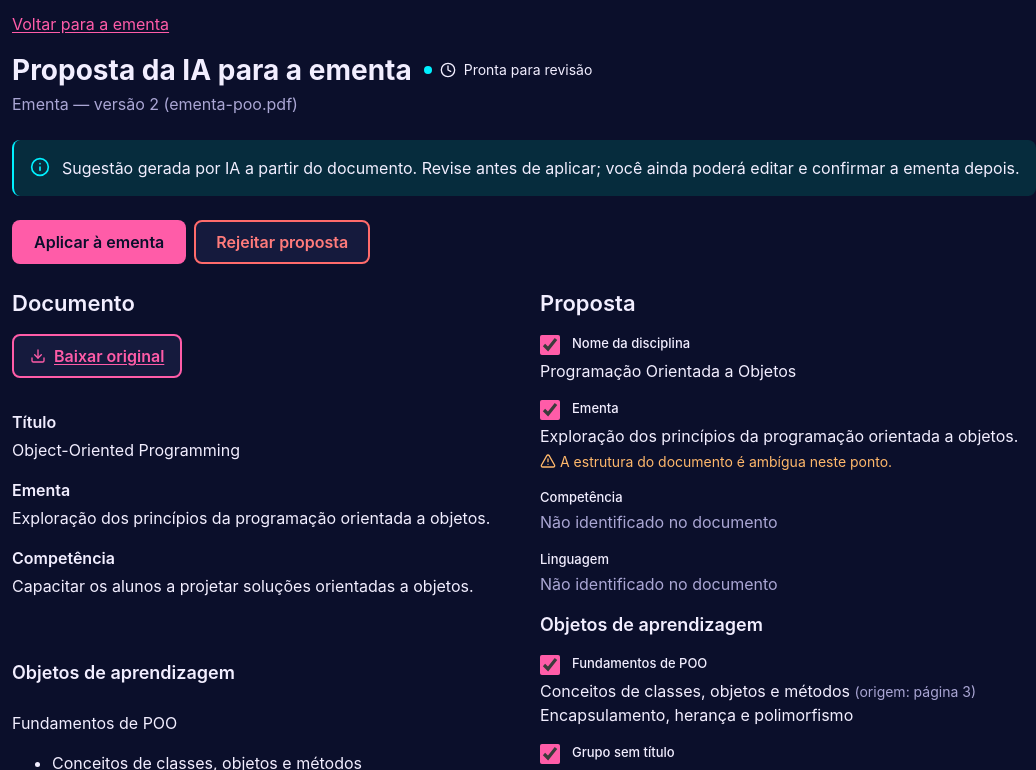
Test case: 007/US3 CurriculumProposalReview — revisar a proposta e aplicar à ementa › 007/US3-2 desmarcar campos e grupos; "Aplicar à ementa" desabilitado sem nada marcado
The width and height of the screenshot is (1036, 770).
Click the checkbox labelled "Nome da disciplina" at (550, 345), box [540, 335, 560, 355]
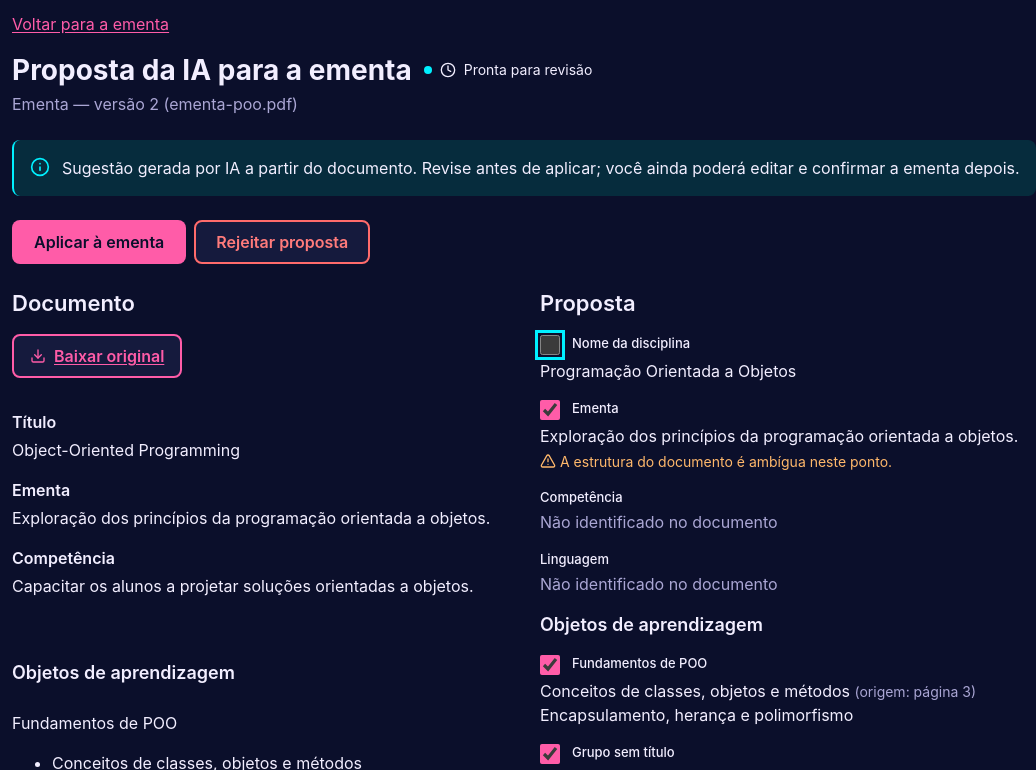
Click the checkbox labelled "Ementa" at (550, 410), box [540, 400, 560, 420]
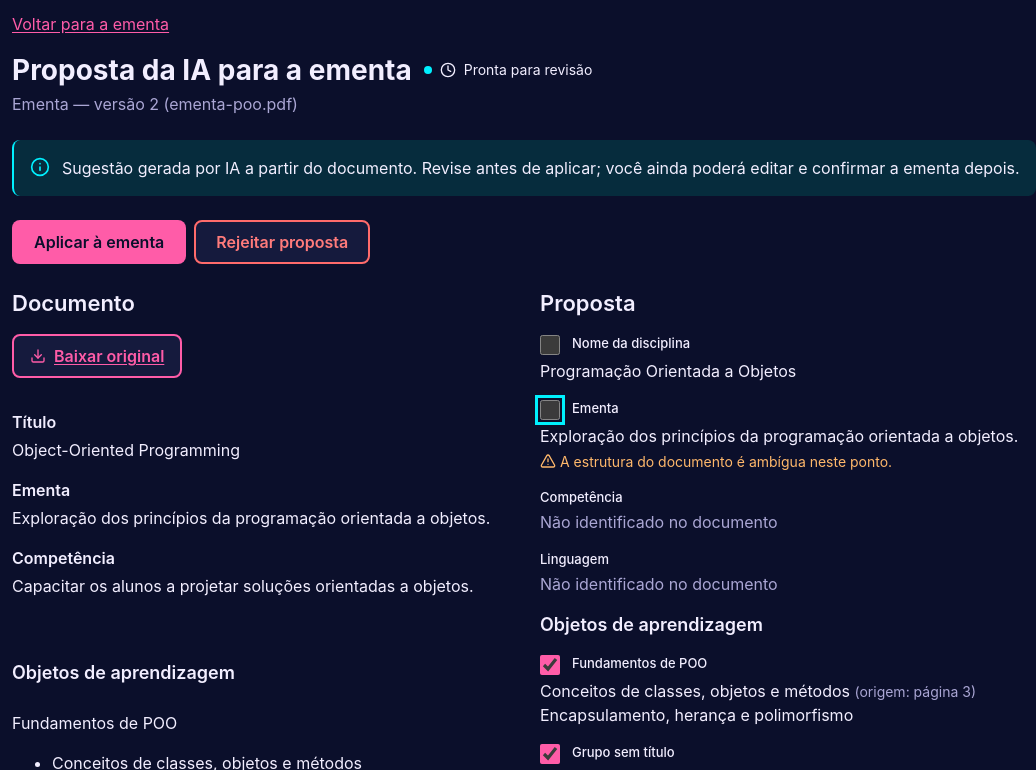
Click the checkbox labelled "Fundamentos de POO" at (550, 665), box [540, 655, 560, 675]
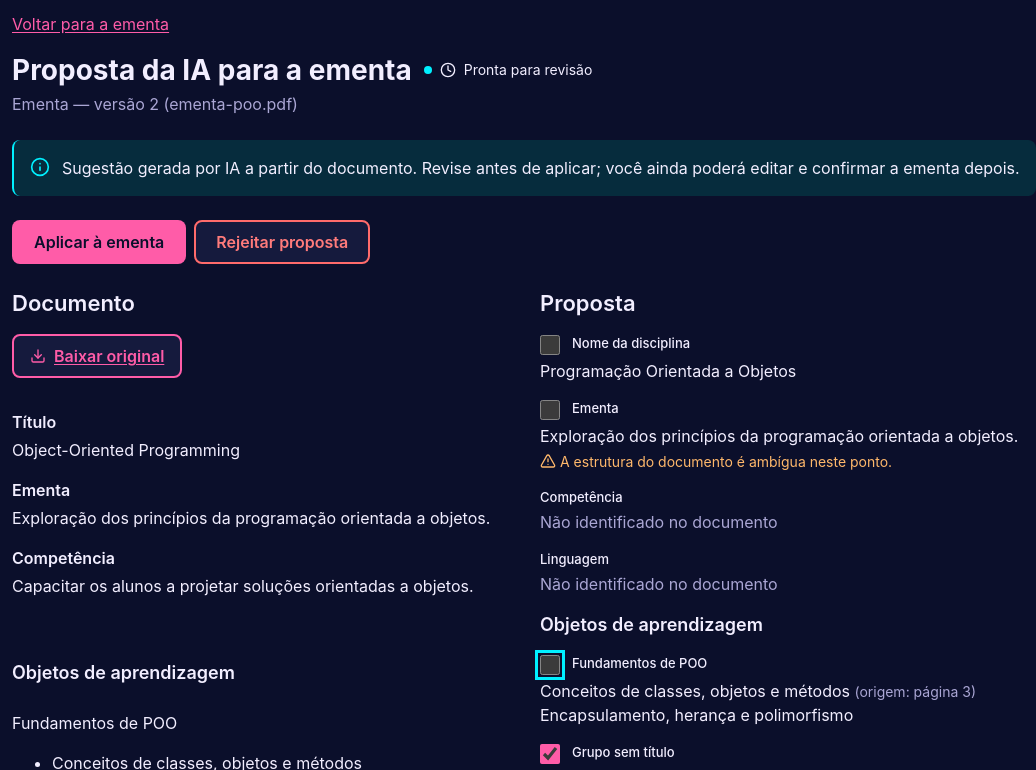
Expected: the button "Aplicar à ementa" is enabled, [12, 220, 186, 264]
Click the checkbox labelled "Grupo sem título" at (550, 754), box [540, 744, 560, 764]
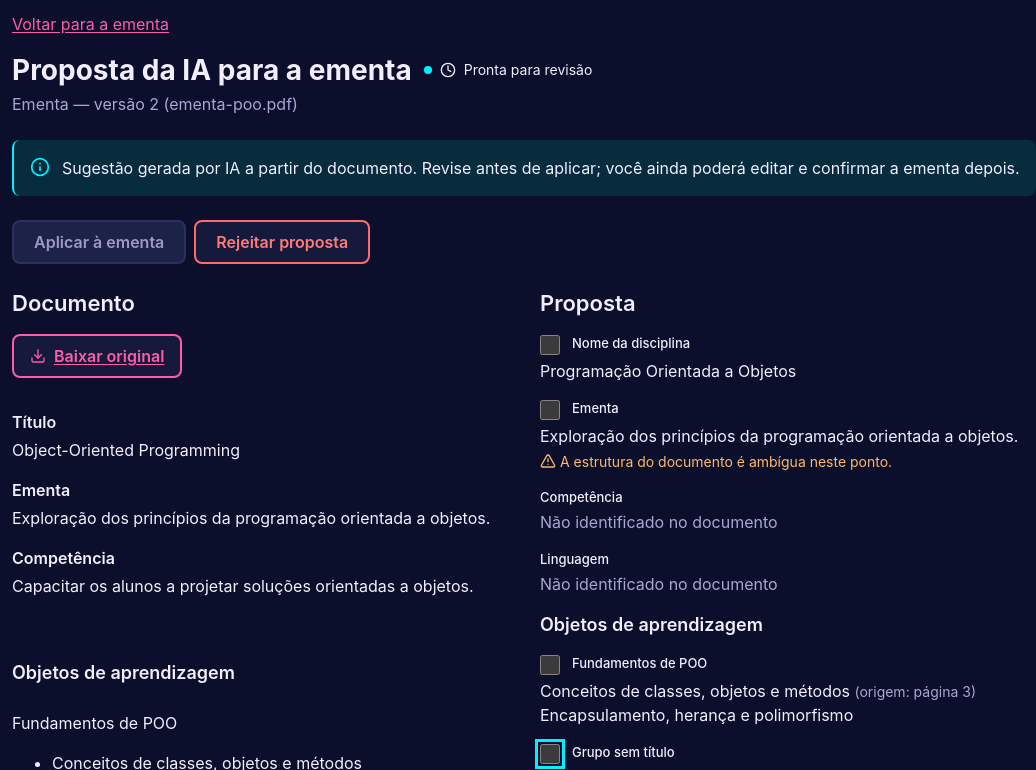
Expected: the button "Aplicar à ementa" is disabled, [12, 220, 186, 264]
Click the checkbox labelled "Ementa" at (550, 410), box [540, 400, 560, 420]
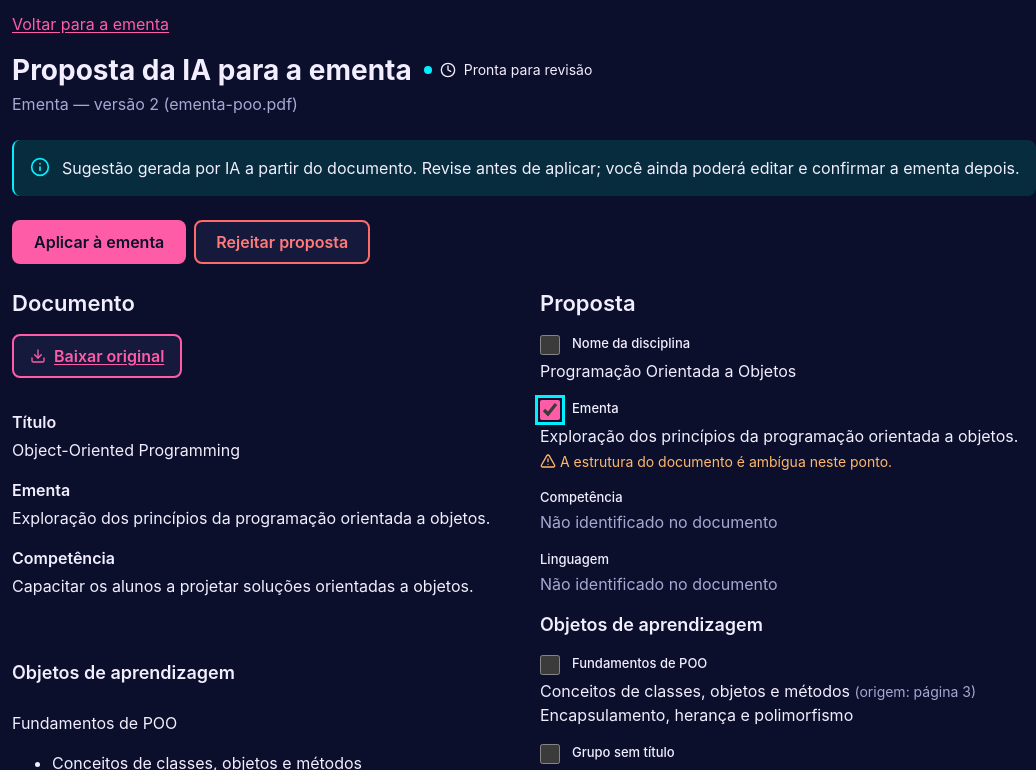
Expected: the button "Aplicar à ementa" is enabled, [12, 220, 186, 264]
